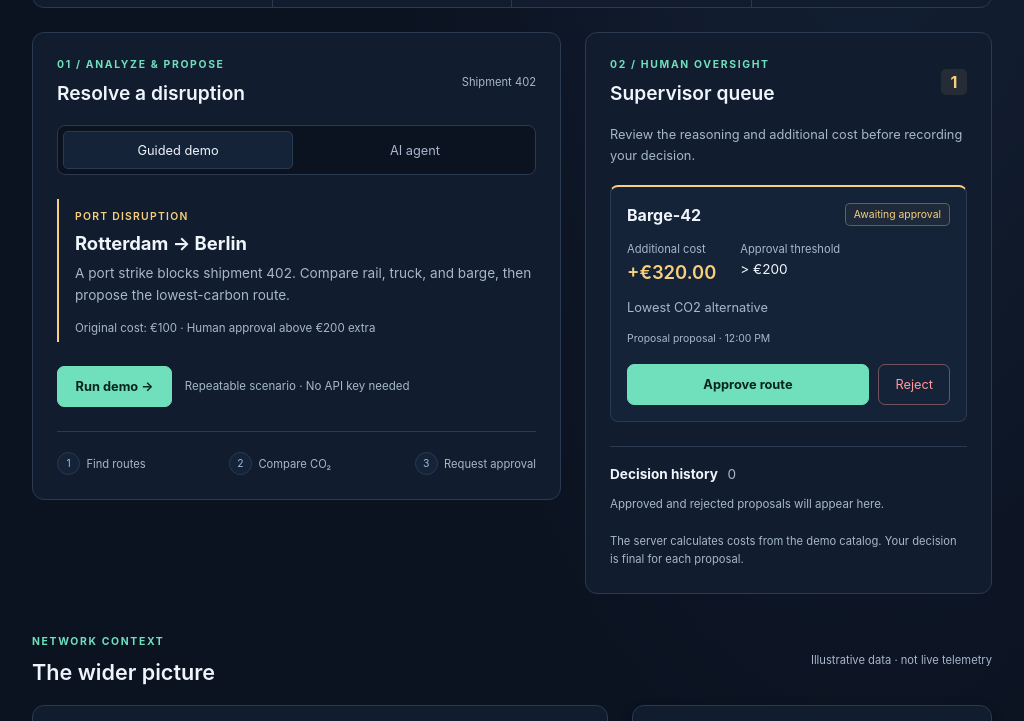
Test case: supervisor queue › surfaces a conflicting decision and refreshes the current state
This screenshot has width=1024, height=721.
(page scrolled)
Click the button with aria-label "Approve Barge-42" at (748, 384), box [627,364,869,405]
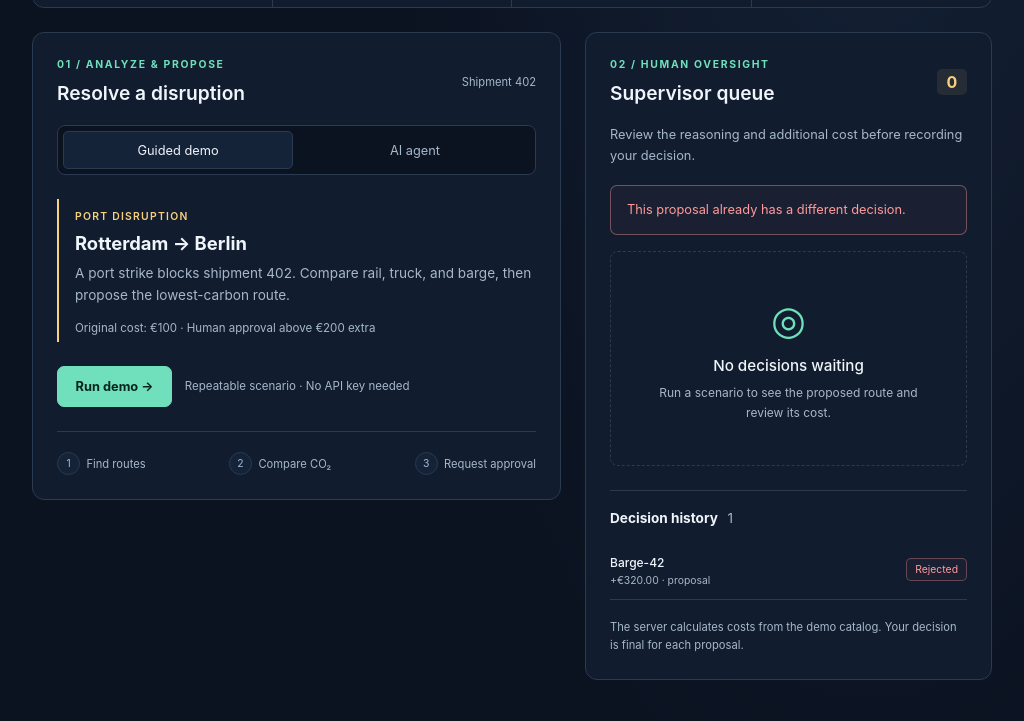
Check: the message reads "This proposal already has a different decision.", box [627,202,906,217]
Check: the text "Rejected" is shown, box [906,558,967,581]
